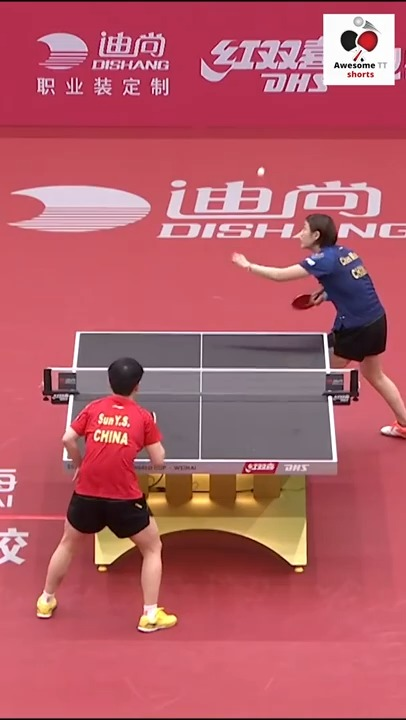Ball: (257, 168, 267, 178)
